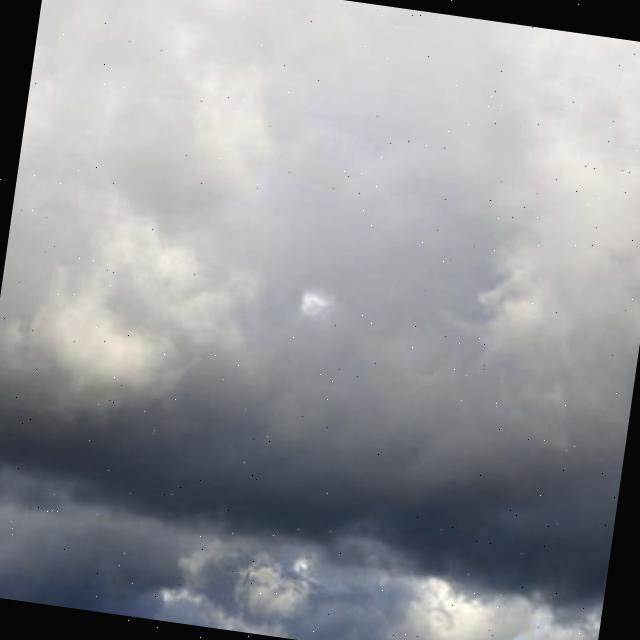As: (1, 3, 640, 631)
